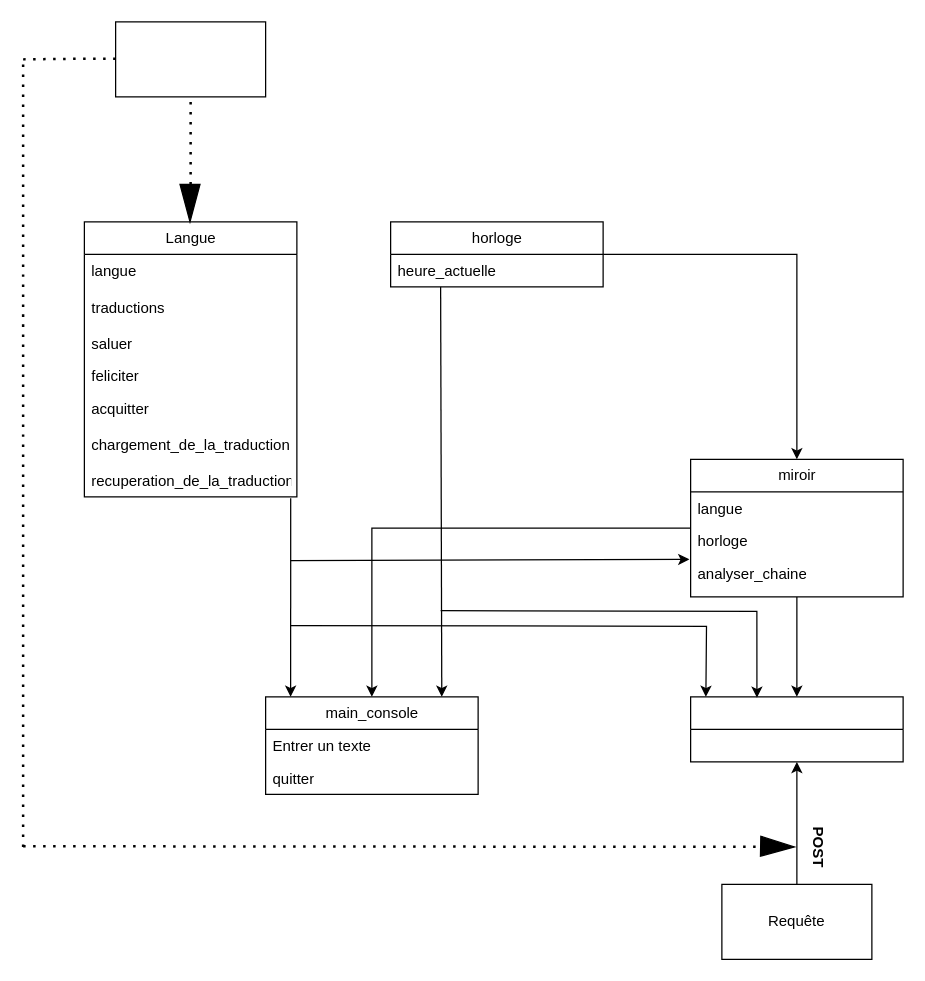
The diagram is 925 pixels wide and 981 high, and some of its shapes have lost their labels. The centre of each missing label's shape, as x and y in pixels:
"JSON" goes at [190,59].
"main_api" goes at [796,729].
